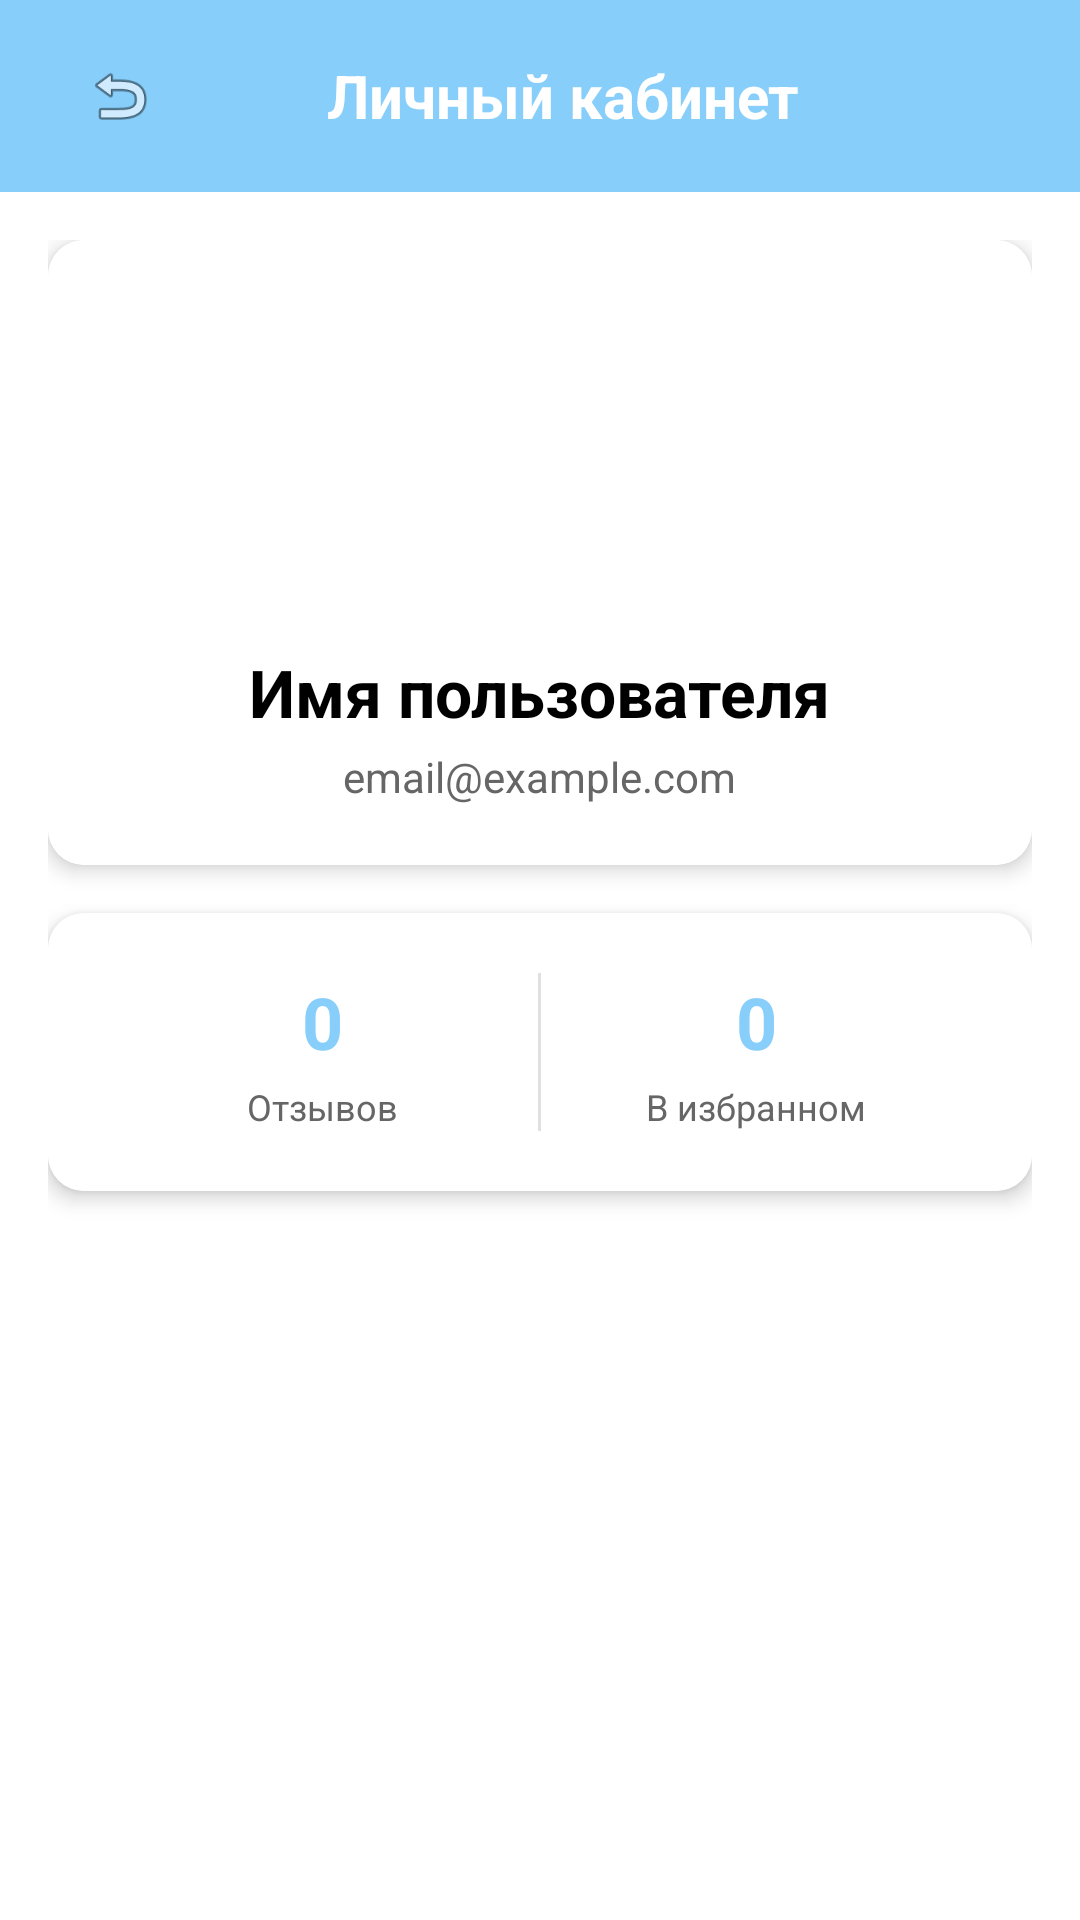

Locate icon controls on the screen. Image size 1080×1920, boxes as {"x1": x1, "y1": y1, "x2": x2, "y2": y2}.
Назад: {"x1": 95, "y1": 73, "x2": 147, "y2": 120}
